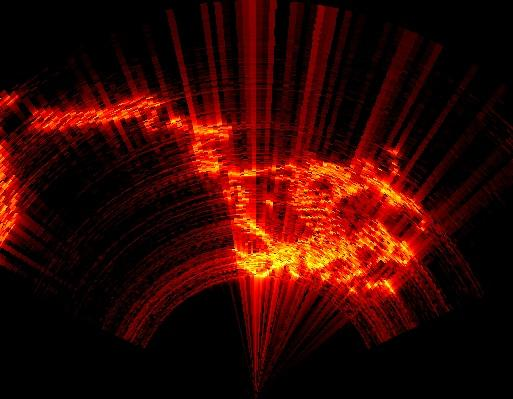shipwreck: (235, 159, 433, 294), (63, 98, 276, 197)
